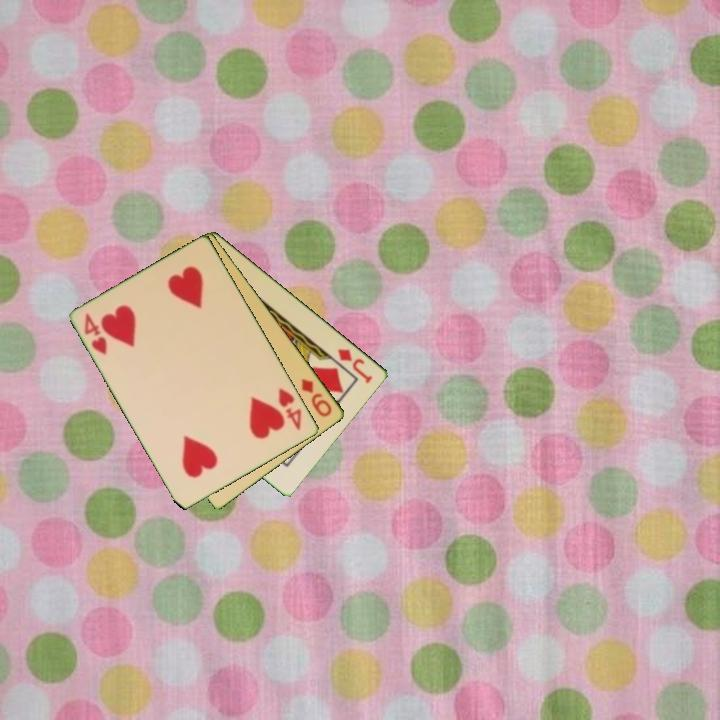4h: (275, 384, 305, 433), (81, 310, 110, 358)
9d: (298, 375, 335, 420)
Jd: (334, 345, 376, 387)
